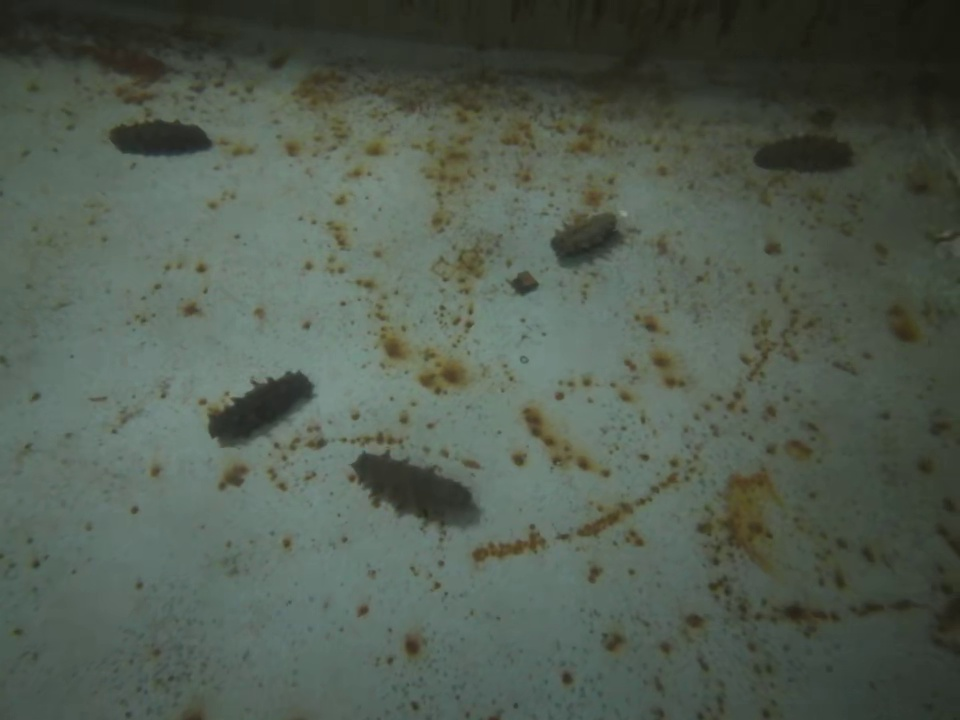seacucumber: (342, 443, 477, 523), (198, 366, 323, 445), (751, 130, 862, 183), (542, 205, 625, 262), (107, 118, 222, 158)
